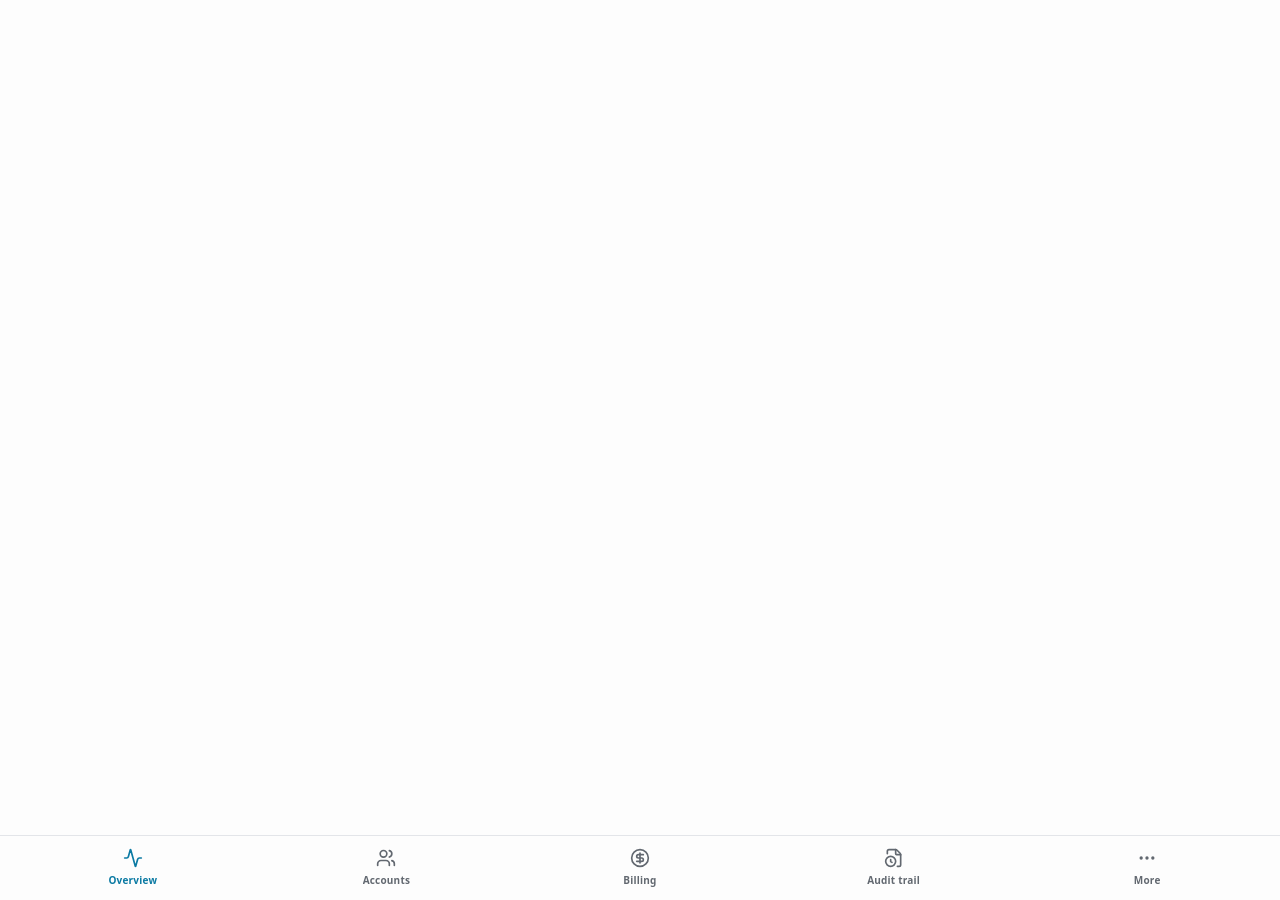
Test: MobileTabBar › gives the control plane the same tab bar without a create button
The width and height of the screenshot is (1280, 900).
Expected: the link "Overview" is shown, [108,848,157,887]
Expected: the link "Accounts" is shown, [363,848,410,887]
Click the button with aria-label "More destinations" at (1147, 868), box [1022,836,1272,899]
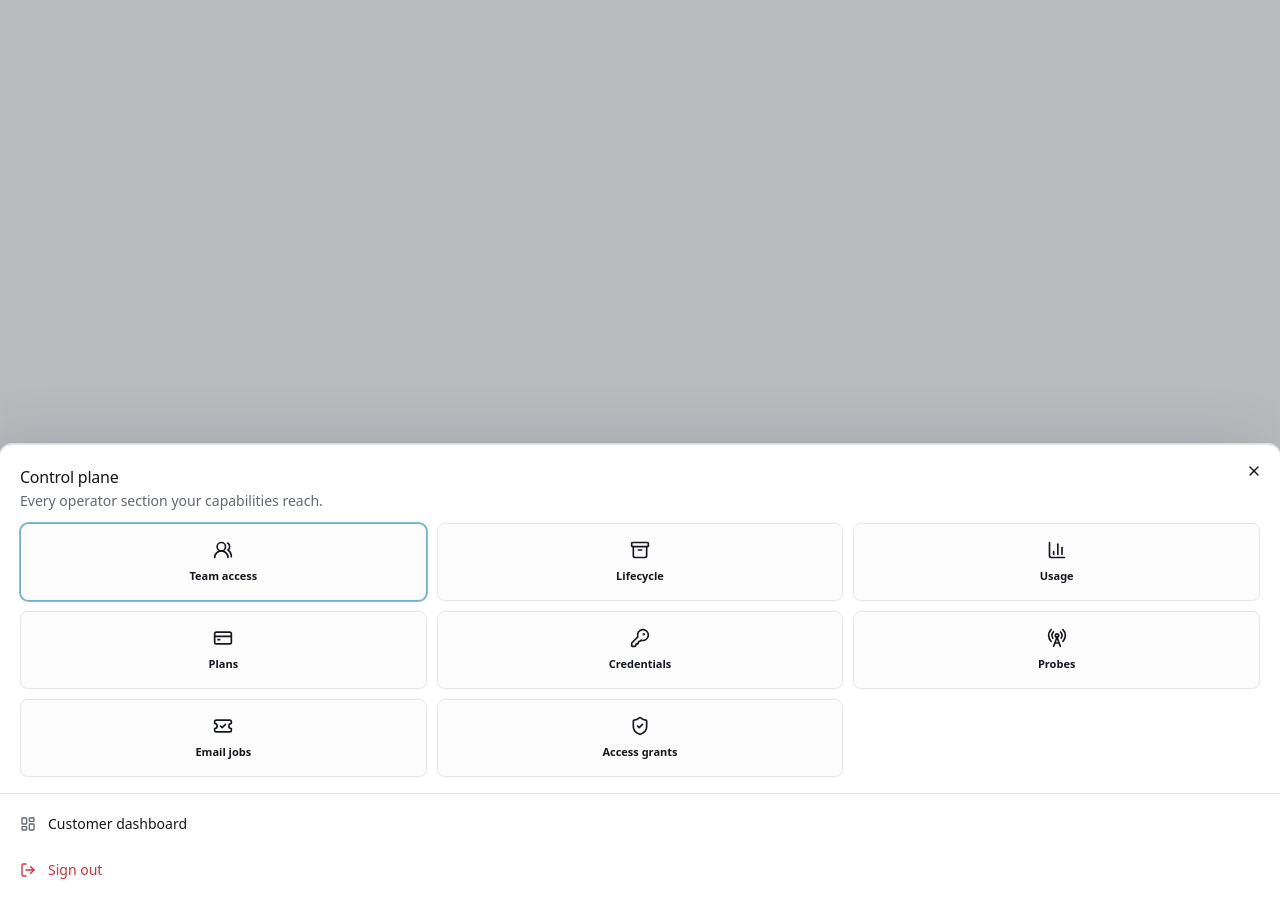
Now the link "Team access" is shown, box [20,523,427,601]
Now the link "Credentials" is shown, box [437,611,843,689]
Now the link "Access grants" is shown, box [437,699,843,777]
